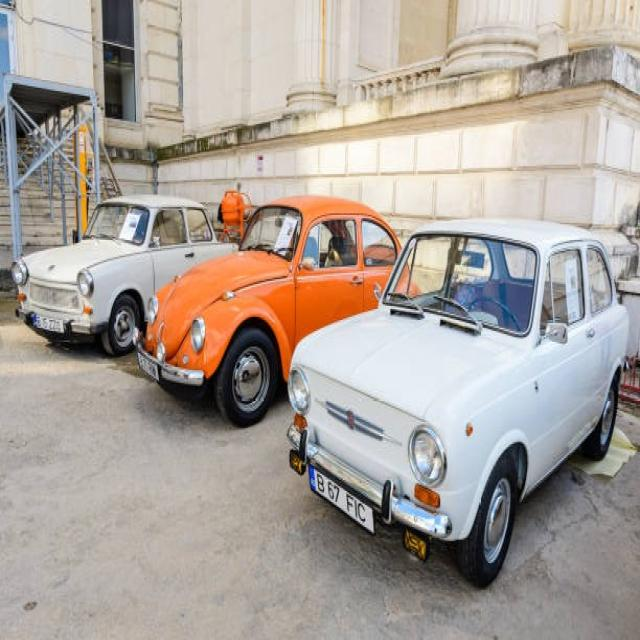0: (297, 225, 632, 553), (13, 188, 241, 356)
cars: (138, 191, 430, 412)
